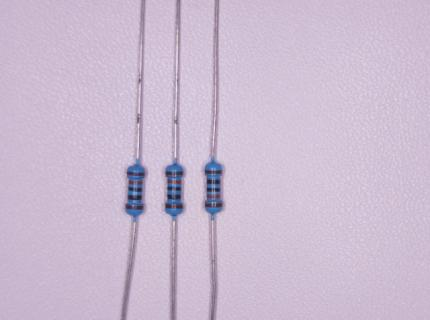Black band: (206, 187, 221, 193), (167, 194, 181, 200), (127, 195, 142, 200), (206, 179, 221, 184), (128, 187, 142, 192), (167, 186, 181, 191)
Brown band: (125, 204, 144, 210), (204, 203, 223, 208), (127, 171, 145, 176), (165, 171, 183, 175), (165, 205, 183, 209), (205, 170, 222, 174)
Orange band: (128, 180, 143, 185), (168, 179, 181, 184), (207, 194, 221, 198)
